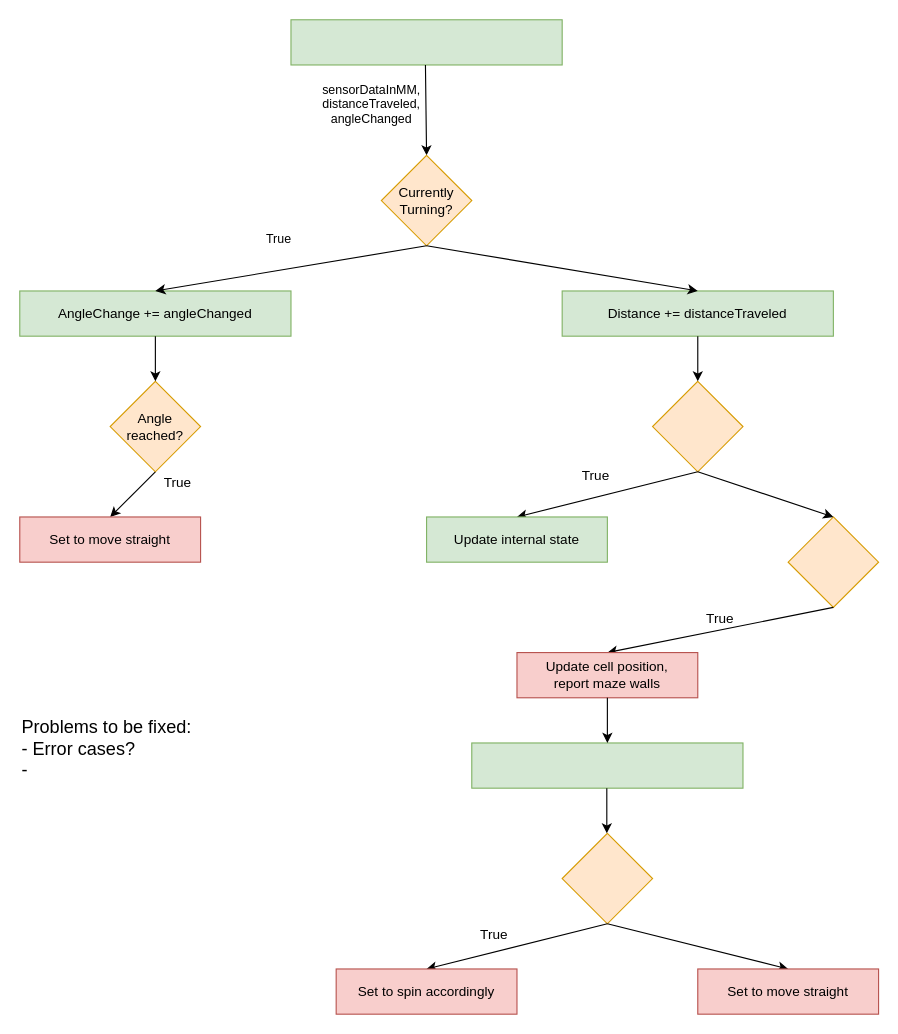
The diagram is 898 pixels wide and 1034 high, and some of its shapes have lost their labels. Here are the shapes that lost their labels. From the top down, the centre of each, then its label:
pixel 426 42: Update from Distance Control
pixel 697 426: Wall has changed?
pixel 833 561: Distance reached?
pixel 607 765: Get next move direction from Maze Control, reset distance vars..
pixel 607 878: New direction needs rotation?
